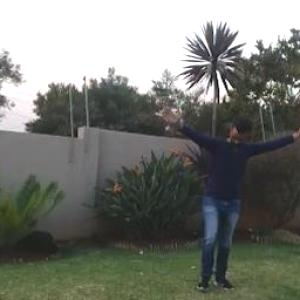takeoff: (158, 97, 299, 299)
